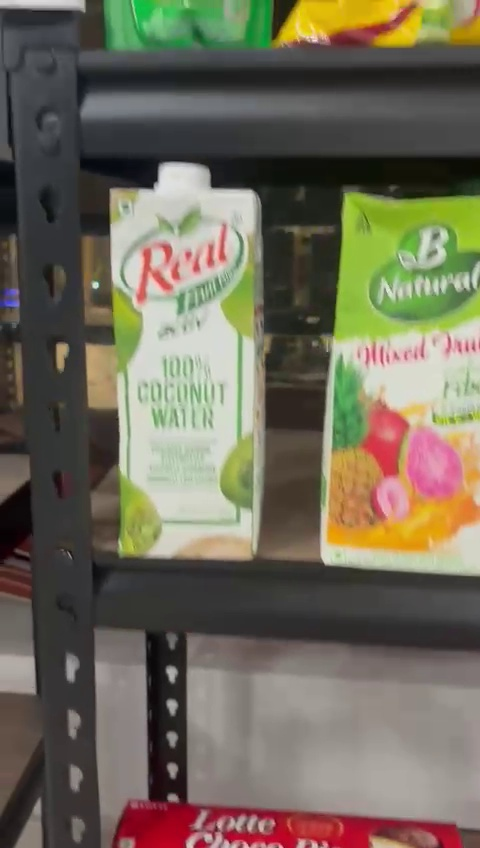Coconut water: (111, 164, 266, 559)
